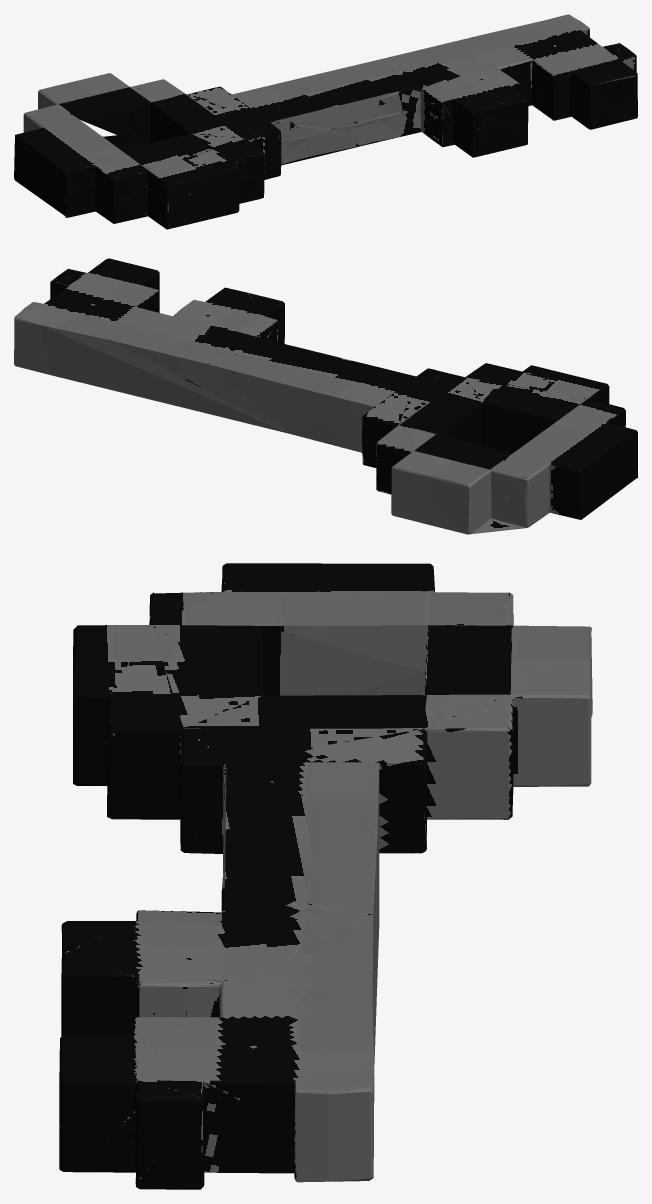
3 renders of one model, top to bottom at view 1: azimuth 30°, elevation 25°; view 2: azimuth 150°, elevation 25°; view 3: azimuth 270°, elevation 25°, orthographic. The views are drawn at different scales.
Visible parts, largest first — view 1: OBJ10d; view 2: OBJ10d; view 3: OBJ10d.
Boxes of the visible parts, x1,y1,x2,y2 form: OBJ10d: (14,14,637,229); OBJ10d: (14,258,637,534); OBJ10d: (59,563,592,1189).
Size of the model in its own units: 0.3244 by 0.026 by 0.1362.
Materials: 1 (1 with a texture image).
